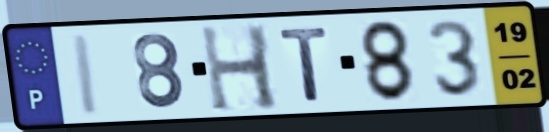3: (425, 17, 485, 98)
8: (357, 18, 419, 104), (130, 31, 186, 110)
H: (196, 22, 284, 115)
I: (68, 31, 104, 119)
T: (277, 24, 333, 104)
